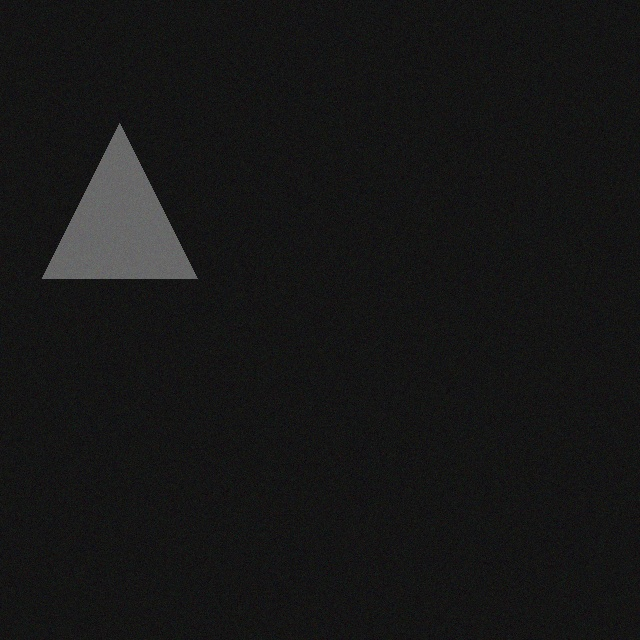triangle: (32, 112, 187, 267)
